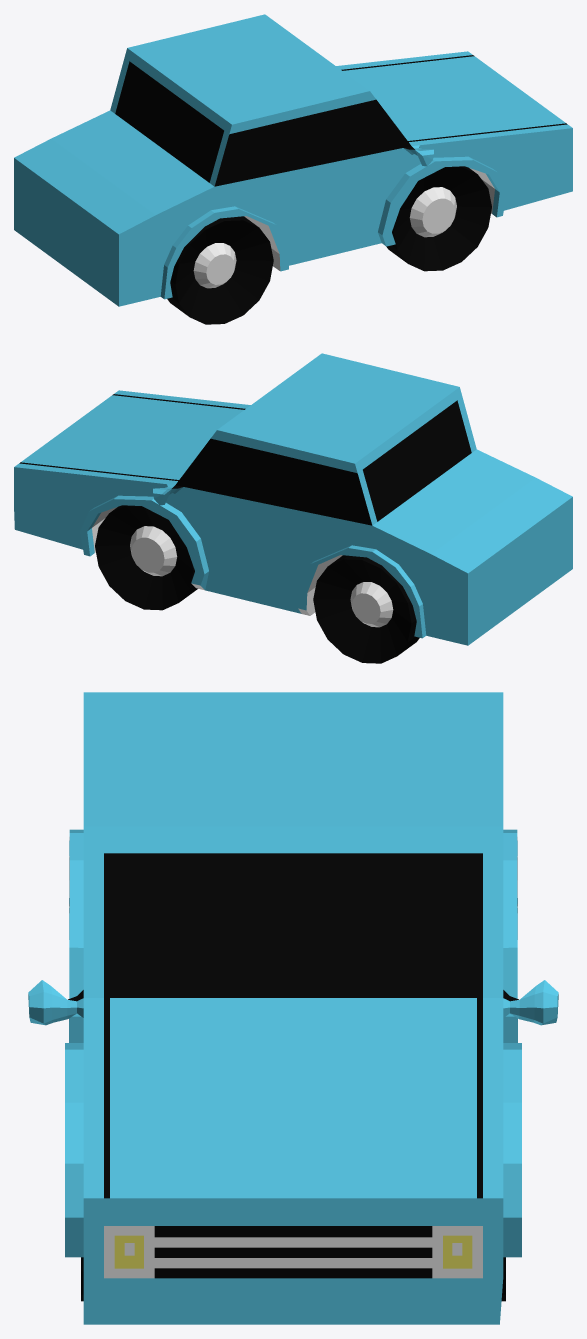
File: car1.fbx
3 renders of one model, top to bottom at view 1: azimuth 30°, elevation 25°; view 2: azimuth 150°, elevation 25°; view 3: azimuth 270°, elevation 25°, orthographic. The views are drawn at different scales.
Visible parts, largest first — view 1: car1; view 2: car1; view 3: car1.
Part boxes in pixels (<box>): car1: <box>14,14,572,324</box>; car1: <box>14,353,572,663</box>; car1: <box>28,692,558,1324</box>.
Bounding box in the file's own units: 420 × 174 × 212.
